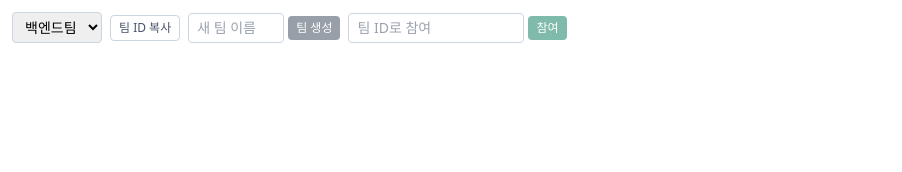
Test: TeamSwitcher 팀 참여 (BR-02 같은 팀이어야 채팅 공유) › 참여 실패(404) 시 에러 안내를 표시한다
Type "nope" into the field named "참여할 팀 ID" at (436, 28), box [348, 12, 524, 42]
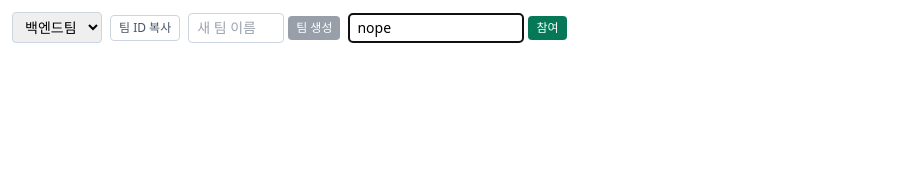
Click the button "참여" at (548, 28), box [528, 16, 567, 40]
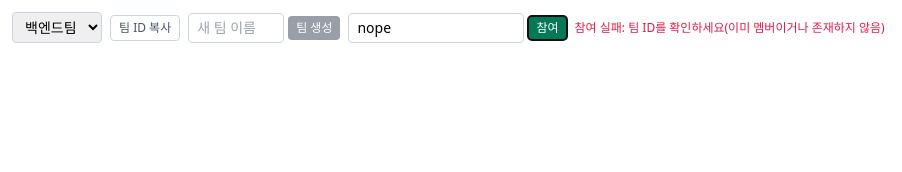
Check: the message shows "참여 실패", box [574, 18, 884, 36]
